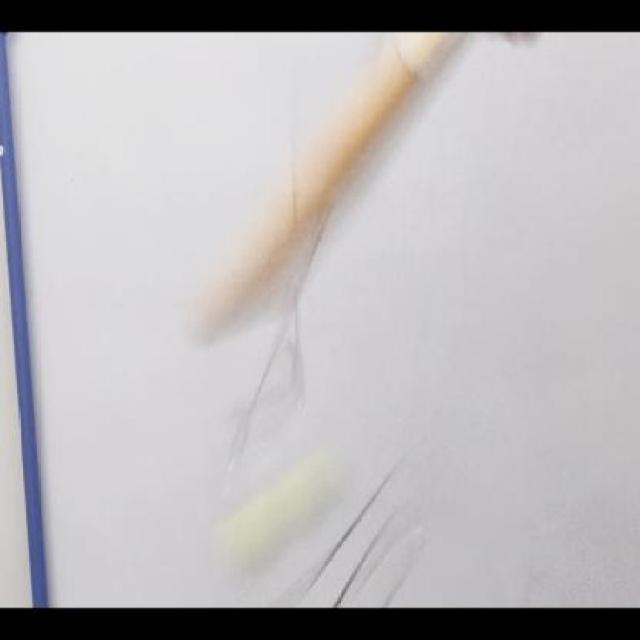baseball: (216, 441, 344, 581)
